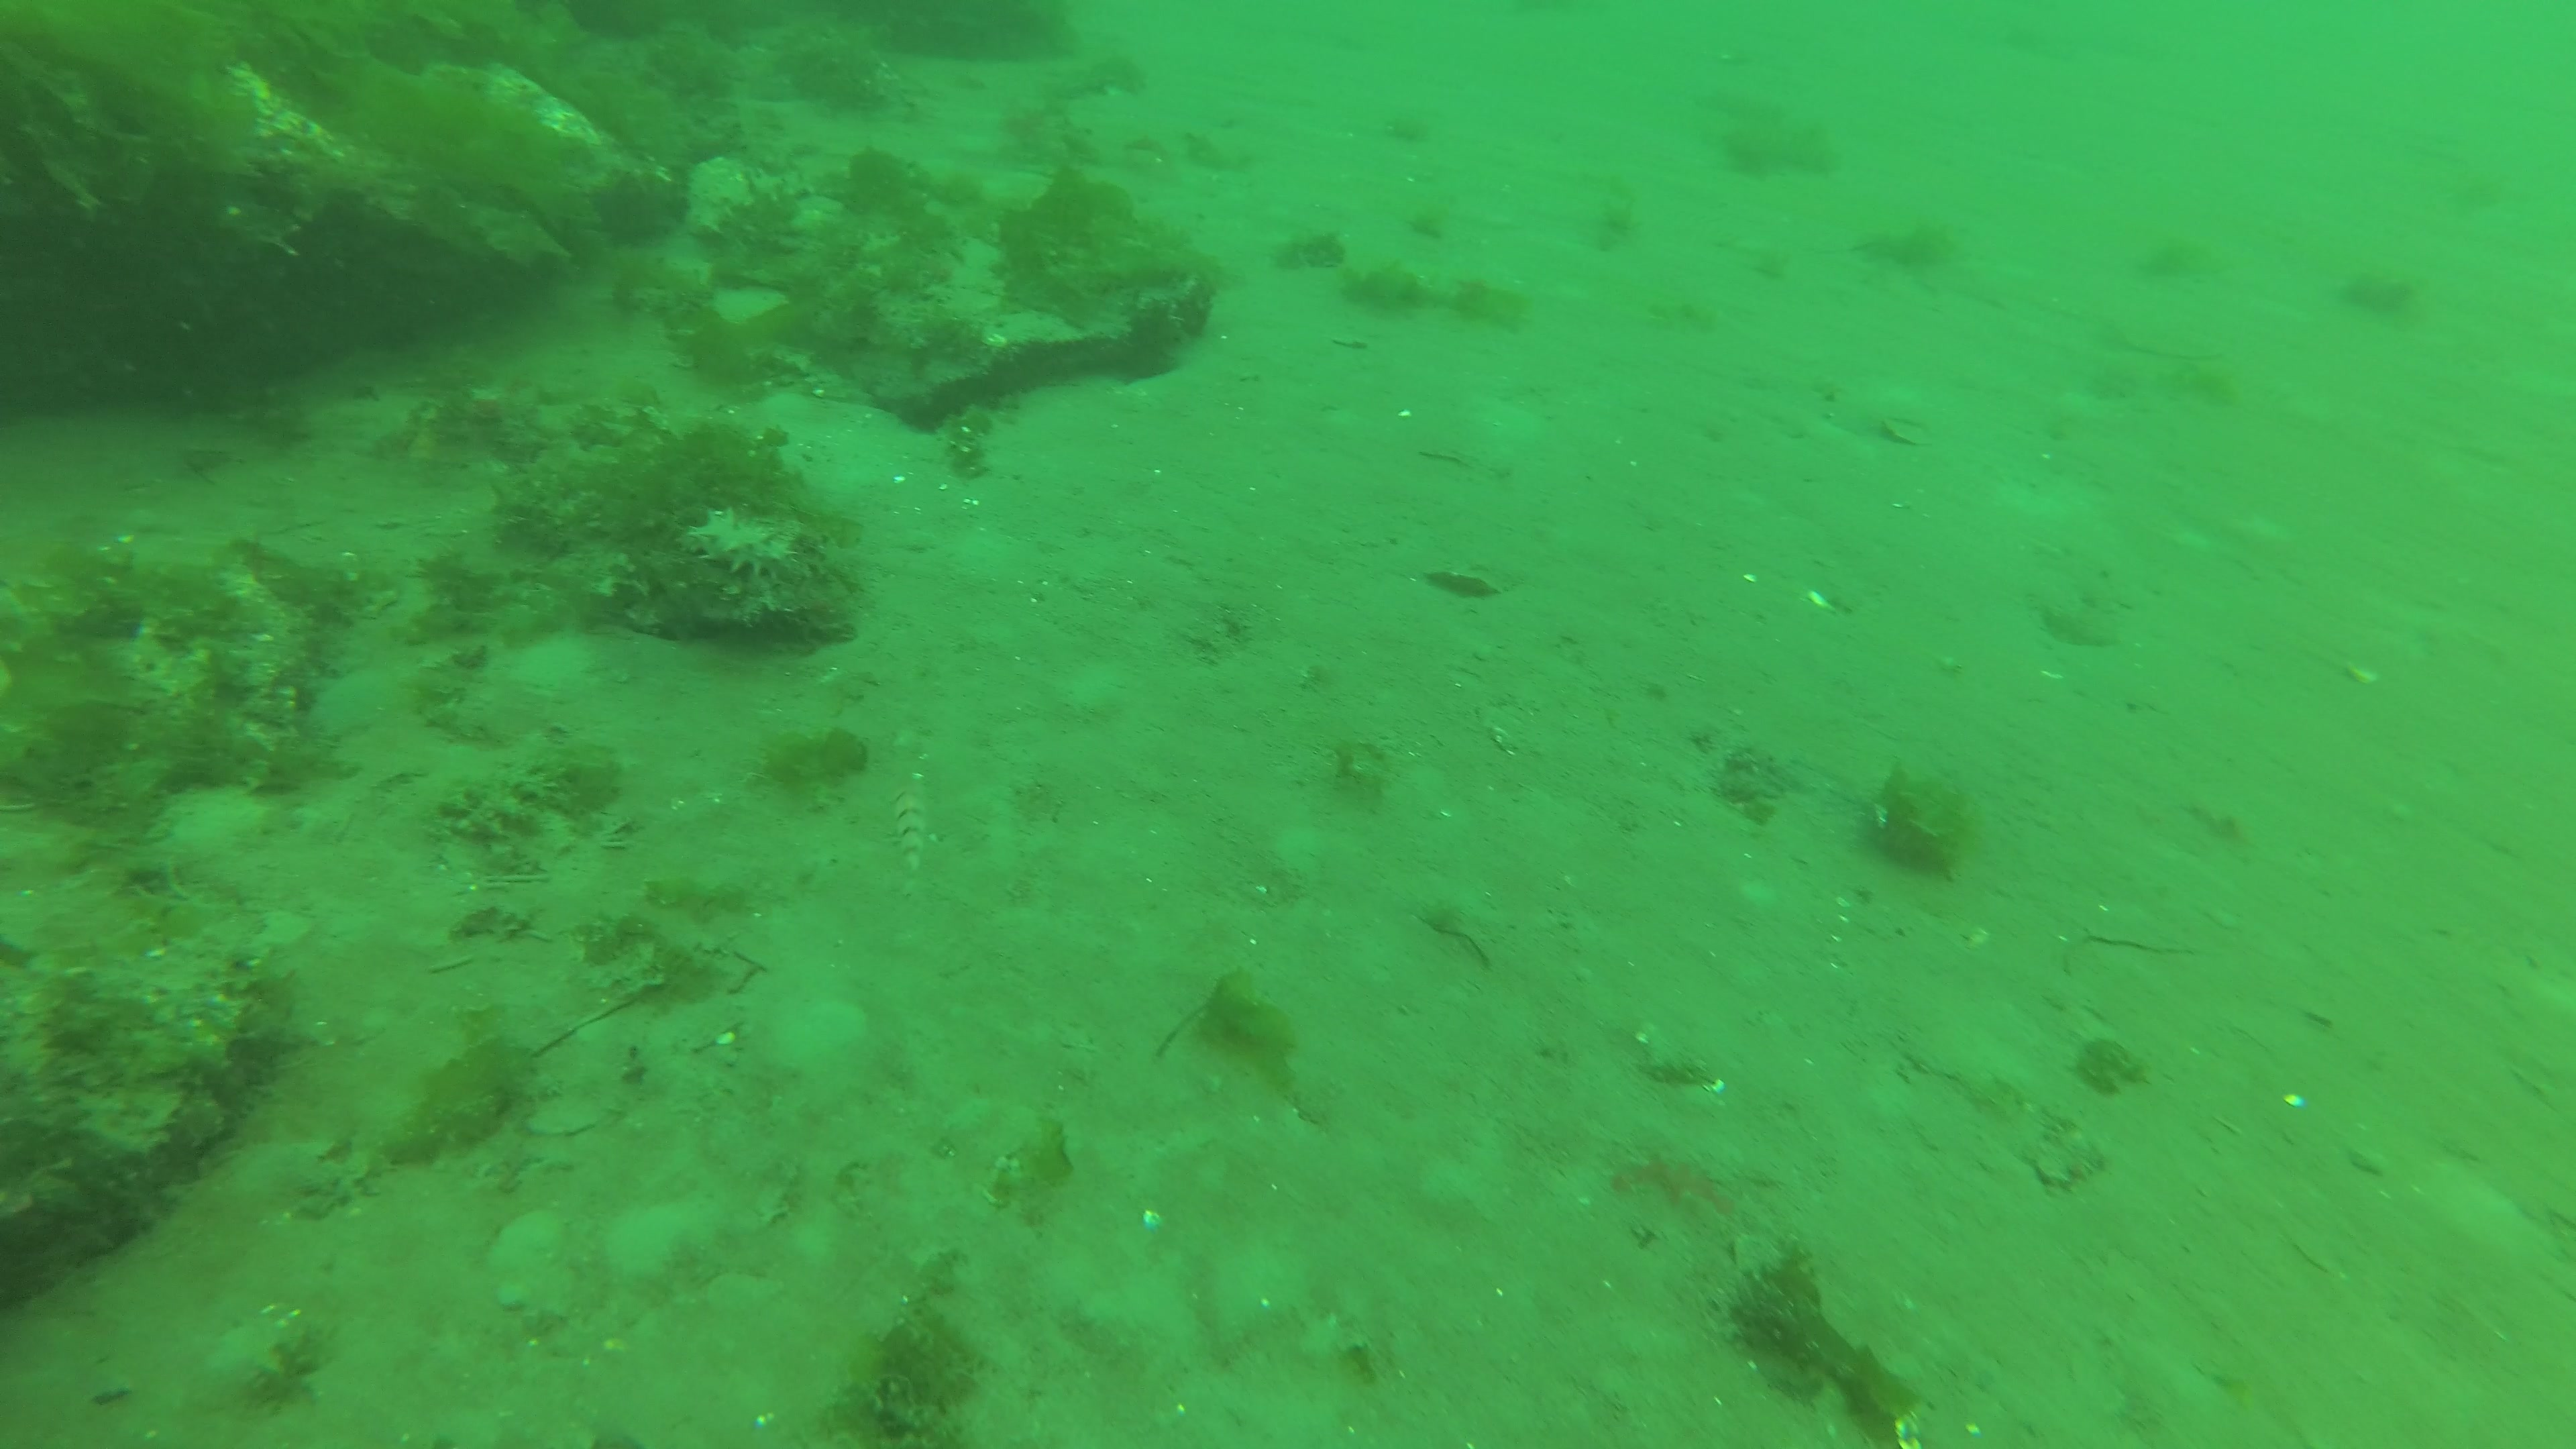holothurian: (672, 497, 807, 587)
